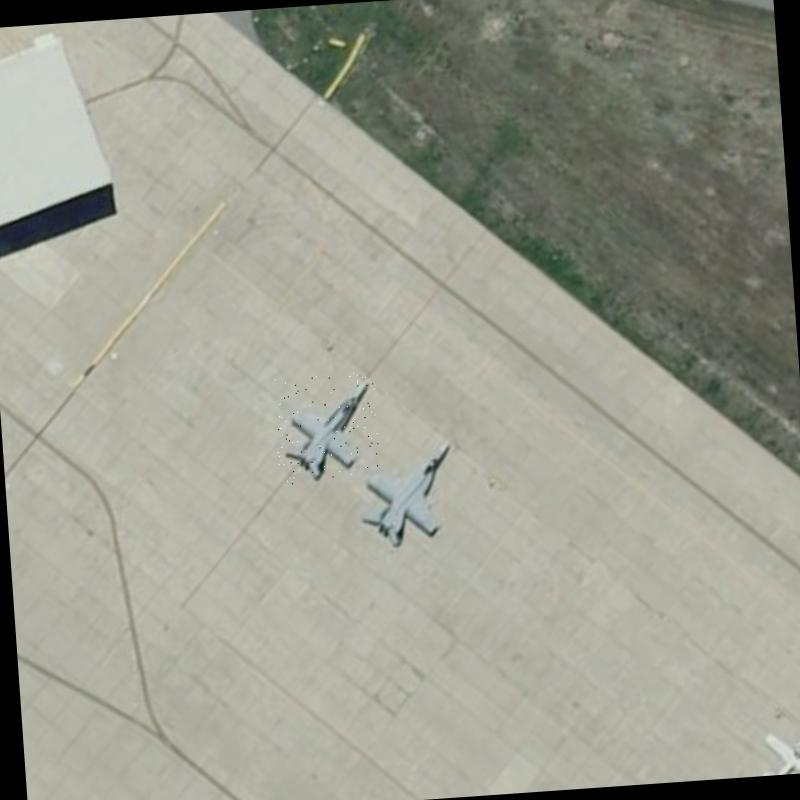A16: (347, 434, 462, 550), (272, 370, 382, 486)
